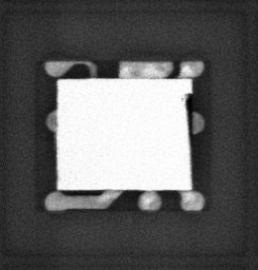DIE_BROKEN: (183, 90, 193, 139)
